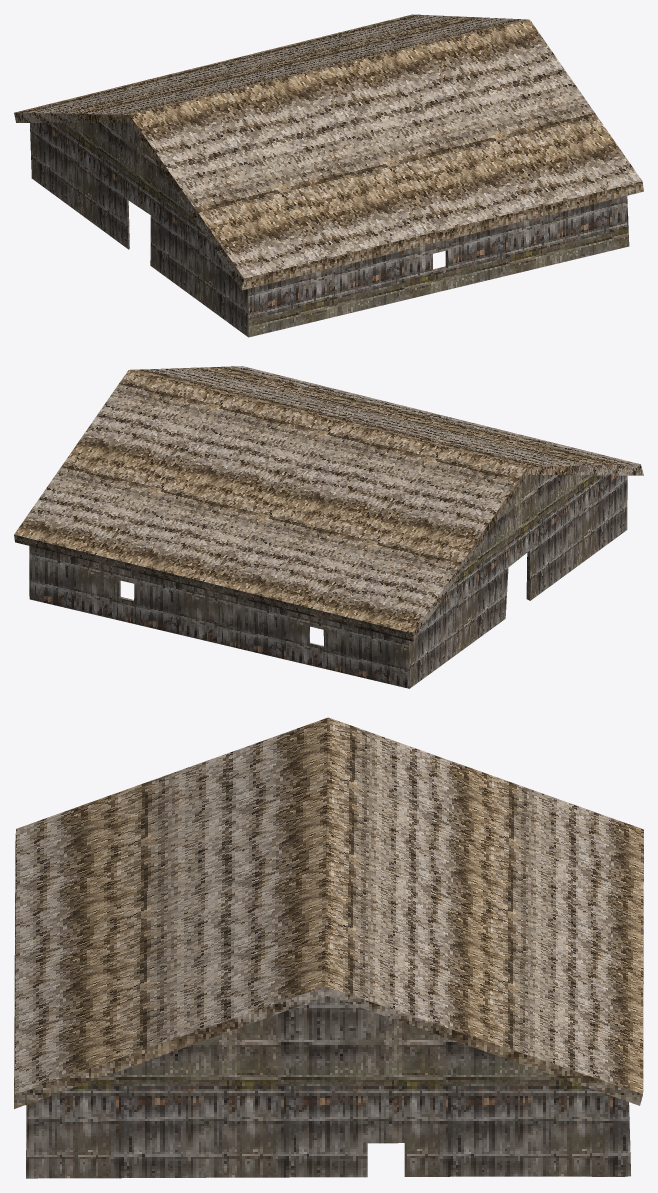
Rendered from cabin.glb.
3 views of the same model, one above another, from view 1: azimuth 30°, elevation 25°; view 2: azimuth 150°, elevation 25°; view 3: azimuth 270°, elevation 25° (orthographic). The views are drawn at different scales.
Visible parts, largest first — view 1: cabin-col; view 2: cabin-col; view 3: cabin-col.
Boxes of the visible parts, x1,y1,x2,y2 form: cabin-col: (14,14,643,337); cabin-col: (14,366,643,688); cabin-col: (14,717,643,1178).
Size of the model in its own units: 19.11 by 6.69 by 18.89.
3 materials, 3 textured.
